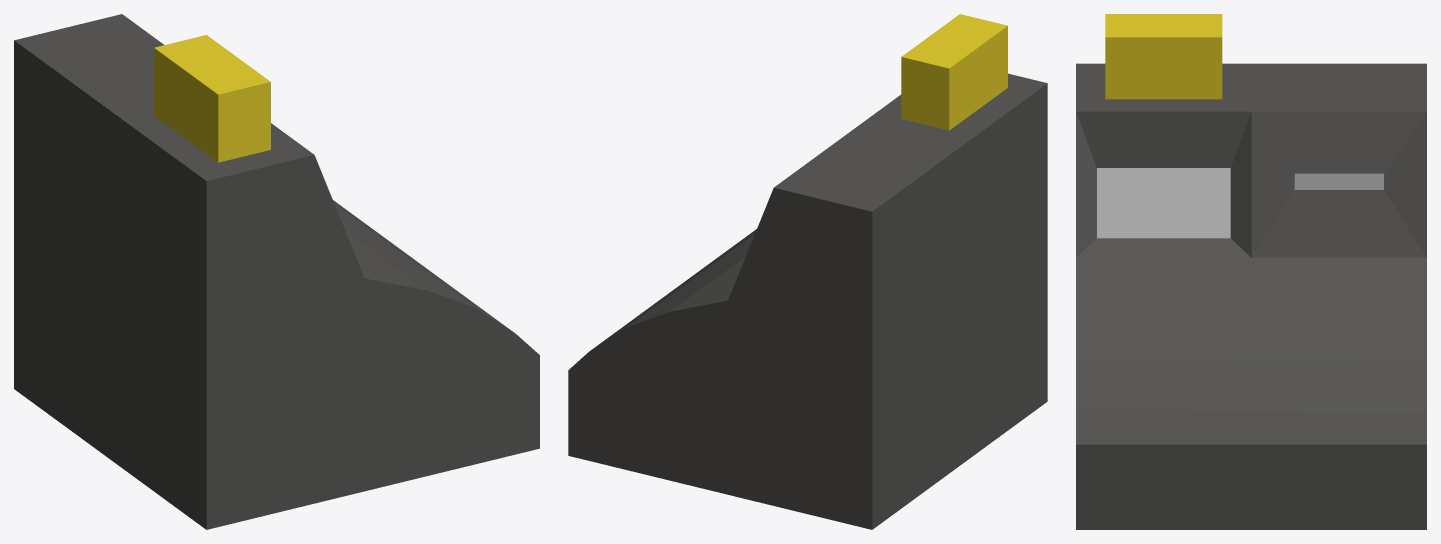
File: Register.fbx
The picture shows the model from 3 angles, left to right: view 1: azimuth 30°, elevation 25°; view 2: azimuth 150°, elevation 25°; view 3: azimuth 270°, elevation 25°; orthographic projection. The views are drawn at different scales.
Visible parts, largest first — view 1: Cube.008; view 2: Cube.008; view 3: Cube.008.
Boxes of the visible parts, x1=… form: Cube.008: x1=14, y1=14, x2=539, y2=529; Cube.008: x1=568, y1=14, x2=1047, y2=529; Cube.008: x1=1076, y1=14, x2=1426, y2=529.
Size of the model in its own units: 100 by 119 by 100.
